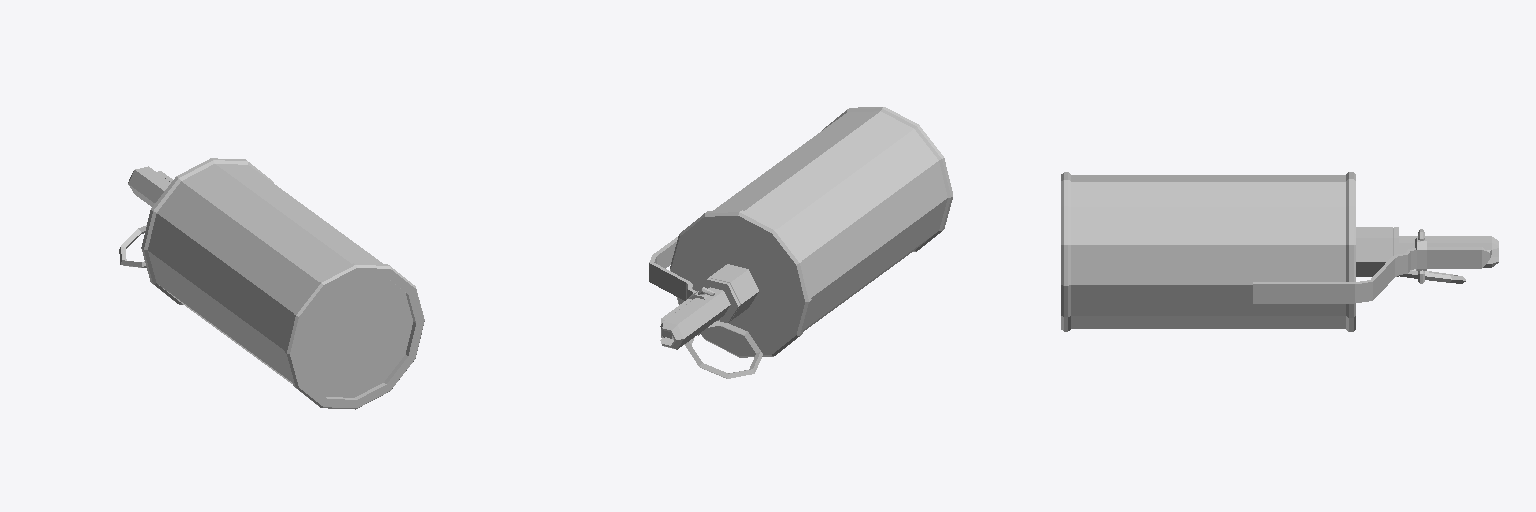
The model's file is smoke_grenade.obj.
The picture shows the model from 3 angles: view 1: azimuth 30°, elevation 25°; view 2: azimuth 150°, elevation 25°; view 3: azimuth 270°, elevation 25°; orthographic projection.
Parts seen in each view (by area): view 1: grenadeModel; view 2: grenadeModel; view 3: grenadeModel.
Boxes of the visible parts, x1,y1,x2,y2 form: grenadeModel: [119, 158, 424, 409]; grenadeModel: [649, 107, 952, 378]; grenadeModel: [1061, 172, 1498, 331].
Bounding box in the file's own units: 1.83 × 1.63 × 4.44.